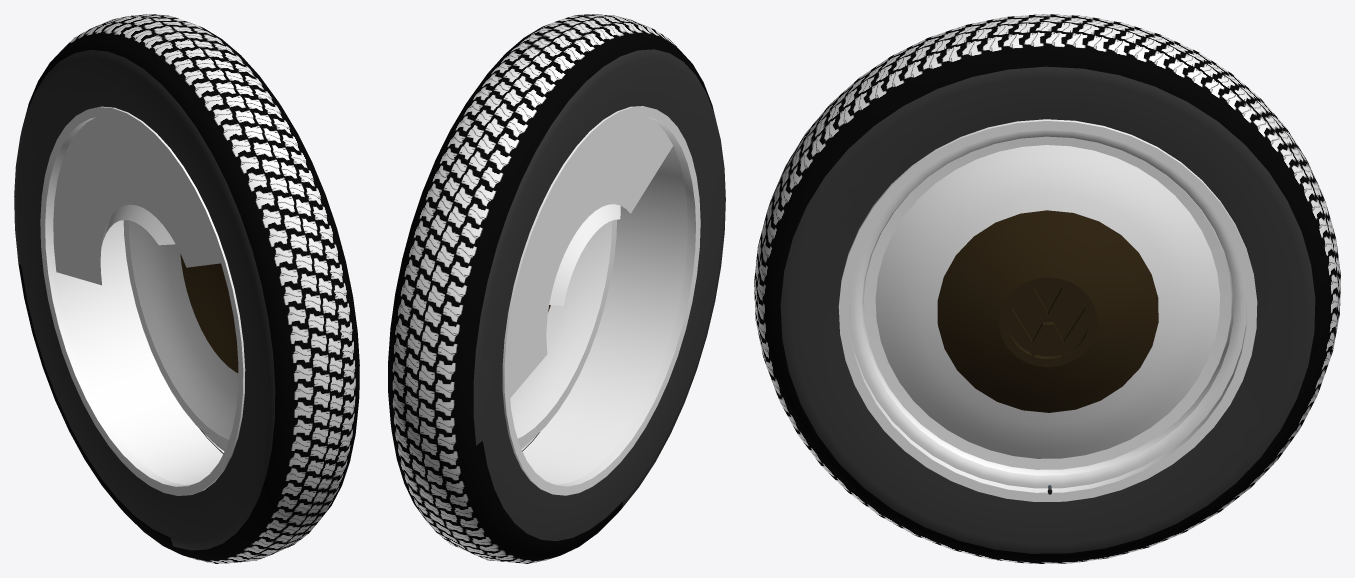
Rendered from cochellantaatrasder.obj.
3 views of the same model, side by side, from view 1: azimuth 30°, elevation 25°; view 2: azimuth 150°, elevation 25°; view 3: azimuth 270°, elevation 25° (orthographic). The views are drawn at different scales.
Parts seen in each view (by area): view 1: VWBeetle.004_white, VWBeetle.004_Picture, VWBeetle.004_Grey, VWBeetle.004_crome; view 2: VWBeetle.004_white, VWBeetle.004_Picture, VWBeetle.004_Grey; view 3: VWBeetle.004_white, VWBeetle.004_Grey, VWBeetle.004_Picture, VWBeetle.004_crome.
Part boxes in pixels (x1,y1,x2,y2): VWBeetle.004_white: [40, 106, 245, 495]; VWBeetle.004_Picture: [18, 14, 359, 563]; VWBeetle.004_Grey: [14, 50, 275, 550]; VWBeetle.004_crome: [180, 254, 238, 372]; VWBeetle.004_white: [502, 106, 700, 495]; VWBeetle.004_Picture: [388, 14, 714, 563]; VWBeetle.004_Grey: [473, 49, 725, 541]; VWBeetle.004_white: [838, 119, 1257, 501]; VWBeetle.004_Grey: [780, 66, 1315, 553]; VWBeetle.004_Picture: [754, 14, 1340, 563]; VWBeetle.004_crome: [937, 210, 1158, 412].
Size of the model in its own units: 0.9047 by 3.83 by 3.83.
